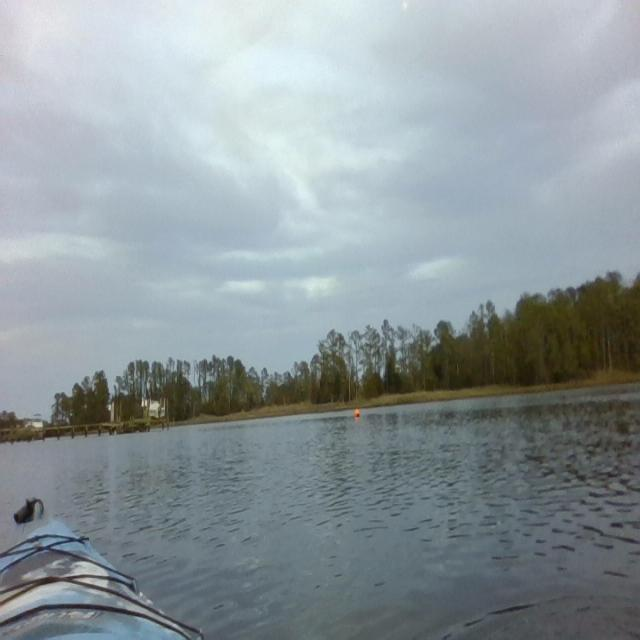Buoy: (354, 406, 361, 420)
